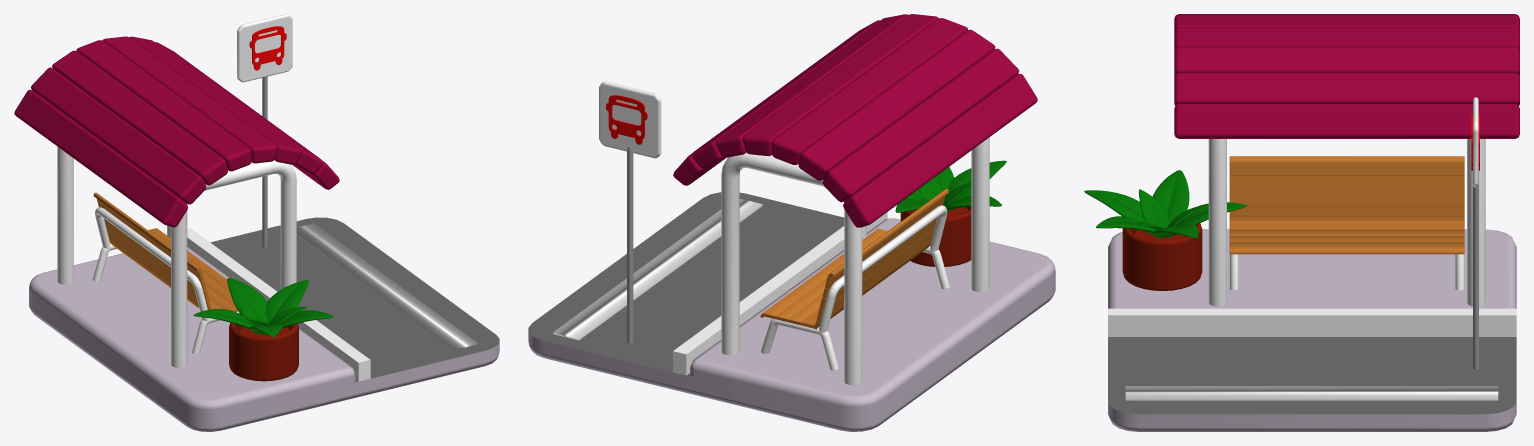
Rendered from leaf.fbx.
The picture shows the model from 3 angles, left to right: view 1: azimuth 30°, elevation 25°; view 2: azimuth 150°, elevation 25°; view 3: azimuth 270°, elevation 25°; orthographic projection. The views are drawn at different scales.
Visible parts, largest first — view 1: Cylinder, Plane, Plane.001, Vert, Plane.013, Plane.002, Circle, Plane.003, Plane.004, Vert.001, Plane.009, Curve (+5 smaller); view 2: Cylinder, Plane, Plane.001, Vert, Plane.002, Plane.013, Plane.003, Vert.001, Plane.004, Circle, Vert.002, Curve (+1 smaller); view 3: Cylinder, Plane.001, Plane, Plane.002, Plane.003, Plane.013, Vert, Circle, Plane.006, Vert.002, Plane.007, Vert.001 (+5 smaller).
Part boxes in pixels (box(x1,y1,x2,y2)): Cylinder: box(14, 36, 339, 227); Plane: box(29, 247, 499, 431); Plane.001: box(210, 217, 499, 382); Vert: box(57, 146, 296, 367); Plane.013: box(296, 223, 477, 350); Plane.002: box(93, 192, 237, 311); Circle: box(229, 322, 298, 381); Plane.003: box(187, 228, 370, 381); Plane.004: box(237, 14, 292, 82); Vert.001: box(93, 207, 239, 354); Plane.009: box(265, 280, 308, 324); Curve: box(249, 26, 286, 70); Cylinder: box(673, 14, 1037, 227); Plane: box(528, 218, 1055, 431); Plane.001: box(528, 192, 844, 377); Vert: box(721, 137, 989, 385); Plane.002: box(760, 189, 948, 329); Plane.013: box(553, 198, 762, 340); Plane.003: box(673, 212, 887, 375); Vert.001: box(761, 205, 949, 370); Plane.004: box(599, 81, 661, 158); Circle: box(900, 206, 971, 266); Vert.002: box(627, 147, 633, 343); Curve: box(606, 95, 647, 144); Cylinder: box(1174, 14, 1519, 138); Plane.001: box(1108, 337, 1516, 414); Plane: box(1108, 229, 1516, 431); Plane.002: box(1229, 156, 1464, 254); Plane.003: box(1108, 308, 1516, 336); Plane.013: box(1125, 386, 1498, 400); Vert: box(1208, 139, 1485, 306); Circle: box(1122, 223, 1202, 290); Plane.006: box(1152, 170, 1189, 223); Vert.002: box(1473, 171, 1478, 369); Plane.007: box(1084, 190, 1147, 232); Vert.001: box(1229, 254, 1464, 290).
Size of the model in its own units: 406 by 305 by 426.
